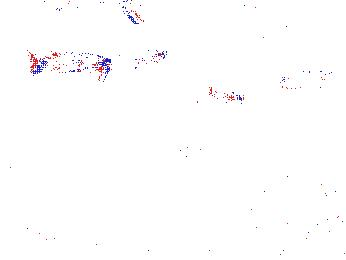X-ray fish: (139, 222, 169, 260)
glassfish: (175, 138, 264, 188)
red belly glassfish: (280, 69, 330, 90)
redtail glassfish: (29, 1, 145, 30), (27, 44, 113, 81), (103, 48, 170, 75)
